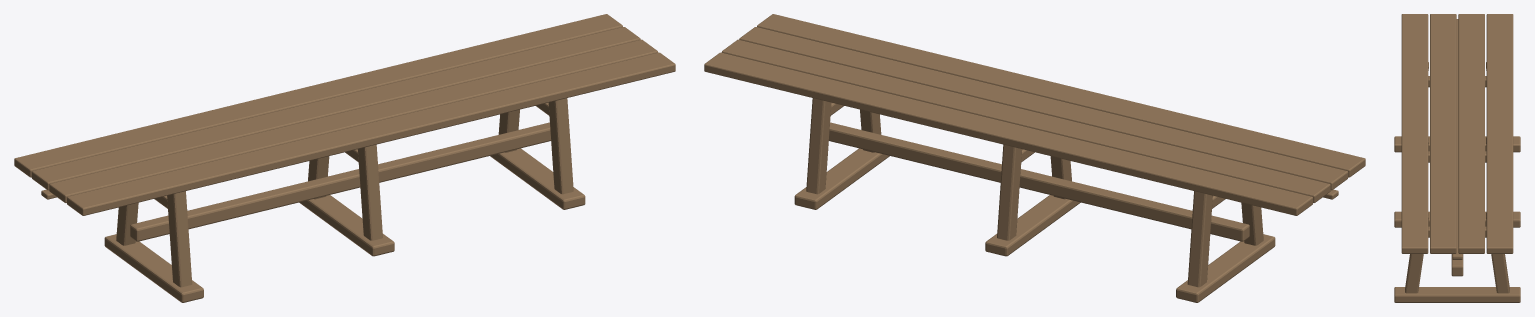
File: refectory_long_table.glb
3 views of the same model, side by side, from view 1: azimuth 30°, elevation 25°; view 2: azimuth 150°, elevation 25°; view 3: azimuth 270°, elevation 25° (orthographic). The views are drawn at different scales.
Visible parts, largest first — view 1: world; view 2: world; view 3: world.
Part boxes in pixels (x1=…): world: x1=14, y1=14, x2=675, y2=302; world: x1=704, y1=14, x2=1365, y2=302; world: x1=1394, y1=14, x2=1520, y2=302.
Size of the model in its own units: 2 by 0.3667 by 0.4507.
